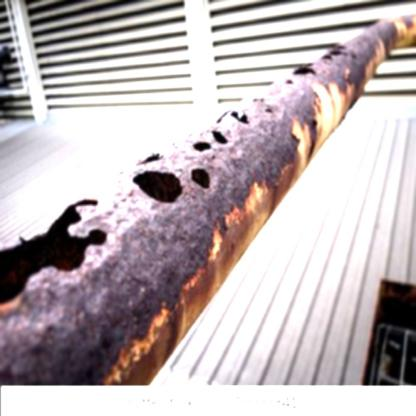burst: (2, 175, 109, 309), (138, 141, 235, 226)
